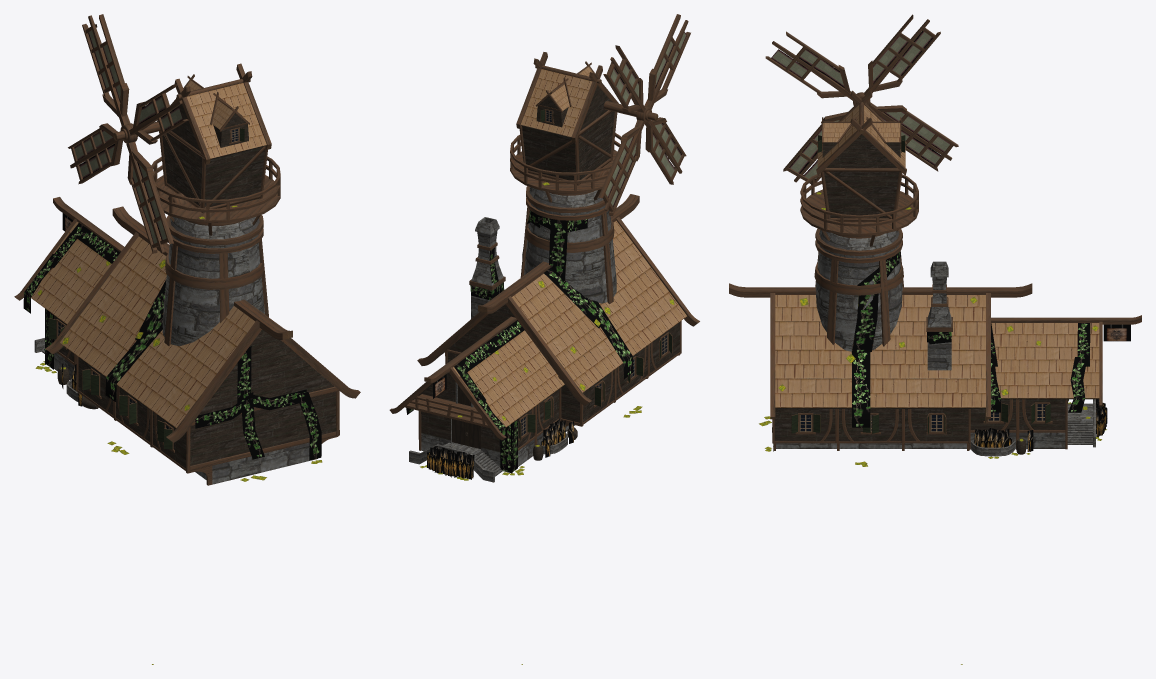
The model's file is housebig.obj.
3 views of the same model, side by side, from view 1: azimuth 30°, elevation 25°; view 2: azimuth 150°, elevation 25°; view 3: azimuth 270°, elevation 25° (orthographic). The views are drawn at different scales.
Parts seen in each view (by area): view 1: polySurface161_Mesh.047, TP1__1__polySurface82_Mesh.045, polySurface814_Mesh.351, polySurface292_Mesh.076, TP1__1__polySurface375_Mesh.020, polySurface290_Mesh.046, polySurface297_Mesh.044, polySurface289_Mesh.021, TP1__1__polySurface87_Mesh.040, polySurface291_Mesh.066, TP1__1__polySurface78_Mesh.043, TP1__1__polySurface434_Mesh.200 (+19 smaller); view 2: polySurface161_Mesh.047, polySurface814_Mesh.351, polySurface290_Mesh.046, polySurface292_Mesh.076, TP1__1__polySurface375_Mesh.020, TP1__1__polySurface87_Mesh.040, TP1__1__polySurface82_Mesh.045, polySurface297_Mesh.044, polySurface289_Mesh.021, polySurface733_Mesh.039, TP1__1__polySurface78_Mesh.043, polySurface291_Mesh.066 (+18 smaller); view 3: polySurface161_Mesh.047, polySurface814_Mesh.351, polySurface290_Mesh.046, polySurface292_Mesh.076, TP1__1__polySurface82_Mesh.045, TP1__1__polySurface375_Mesh.020, TP1__1__polySurface87_Mesh.040, TP1__1__polySurface78_Mesh.043, polySurface733_Mesh.039, polySurface291_Mesh.066, polySurface647_Mesh.209, polySurface297_Mesh.044 (+12 smaller).
Part boxes in pixels (bbox=[...]): polySurface161_Mesh.047: bbox=[60, 236, 255, 427]; TP1__1__polySurface82_Mesh.045: bbox=[78, 329, 336, 468]; polySurface814_Mesh.351: bbox=[68, 14, 188, 253]; polySurface292_Mesh.076: bbox=[162, 216, 264, 346]; TP1__1__polySurface375_Mesh.020: bbox=[162, 104, 264, 208]; polySurface290_Mesh.046: bbox=[27, 221, 111, 323]; polySurface297_Mesh.044: bbox=[45, 232, 360, 442]; polySurface289_Mesh.021: bbox=[187, 83, 266, 159]; TP1__1__polySurface87_Mesh.040: bbox=[54, 315, 313, 484]; polySurface291_Mesh.066: bbox=[156, 175, 280, 222]; TP1__1__polySurface78_Mesh.043: bbox=[112, 206, 292, 339]; TP1__1__polySurface434_Mesh.200: bbox=[164, 239, 268, 345]; polySurface161_Mesh.047: bbox=[441, 220, 686, 392]; polySurface814_Mesh.351: bbox=[598, 14, 690, 215]; polySurface290_Mesh.046: bbox=[413, 330, 564, 427]; polySurface292_Mesh.076: bbox=[524, 187, 616, 303]; TP1__1__polySurface375_Mesh.020: bbox=[522, 85, 614, 180]; TP1__1__polySurface87_Mesh.040: bbox=[421, 372, 574, 467]; TP1__1__polySurface82_Mesh.045: bbox=[447, 304, 679, 422]; polySurface297_Mesh.044: bbox=[417, 217, 699, 405]; polySurface289_Mesh.021: bbox=[520, 69, 592, 137]; polySurface733_Mesh.039: bbox=[471, 217, 503, 318]; TP1__1__polySurface78_Mesh.043: bbox=[478, 194, 639, 313]; polySurface291_Mesh.066: bbox=[510, 149, 617, 193]; polySurface161_Mesh.047: bbox=[775, 295, 985, 408]; polySurface814_Mesh.351: bbox=[765, 14, 958, 184]; polySurface290_Mesh.046: bbox=[991, 323, 1099, 399]; polySurface292_Mesh.076: bbox=[815, 230, 902, 351]; TP1__1__polySurface82_Mesh.045: bbox=[774, 409, 968, 441]; TP1__1__polySurface375_Mesh.020: bbox=[824, 134, 898, 218]; TP1__1__polySurface87_Mesh.040: bbox=[776, 399, 1065, 448]; TP1__1__polySurface78_Mesh.043: bbox=[729, 283, 1032, 297]; polySurface733_Mesh.039: bbox=[927, 261, 951, 370]; polySurface291_Mesh.066: bbox=[800, 189, 918, 236]; polySurface647_Mesh.209: bbox=[852, 352, 870, 427]; polySurface297_Mesh.044: bbox=[770, 293, 990, 419].
Size of the model in its own units: 1.11 by 3.74 by 2.28.
Materials: 1 (1 with a texture image).
